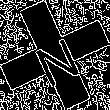N_NW: (26, 24, 84, 86)
